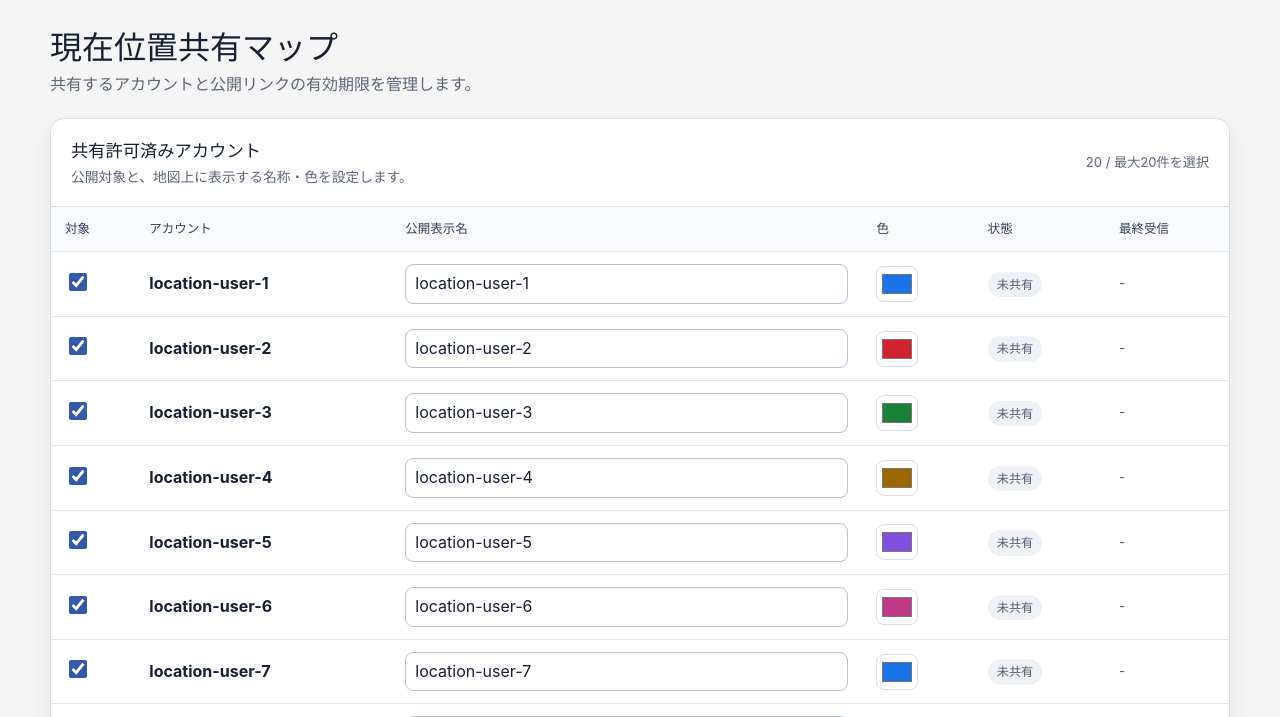
it: 現在位置共有マップ管理画面 › 共有対象は最大20件まで選択できる
Step 1. Click the checkbox named "location-user-1を共有対象にする" → click(78, 282), box x1=69 y1=273 x2=87 y2=291
(page scrolled)
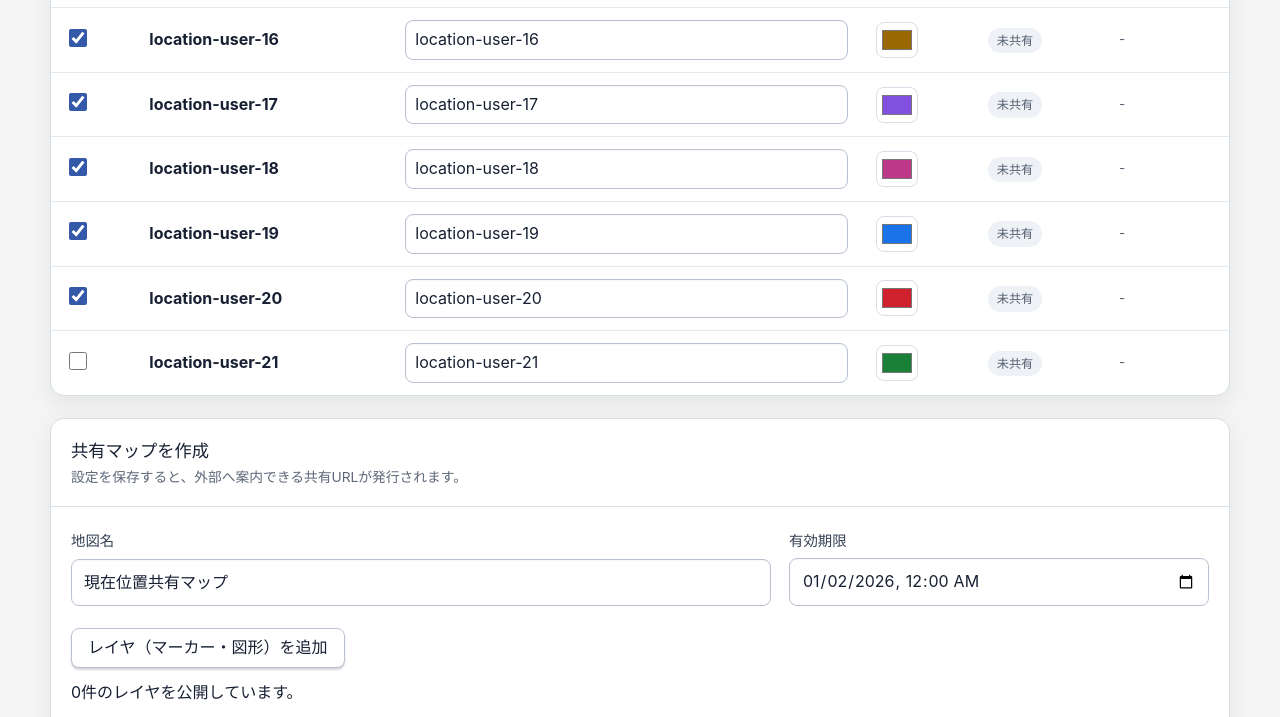
expect the checkbox named "location-user-21を共有対象にする" is enabled: met, box x1=69 y1=352 x2=87 y2=370
